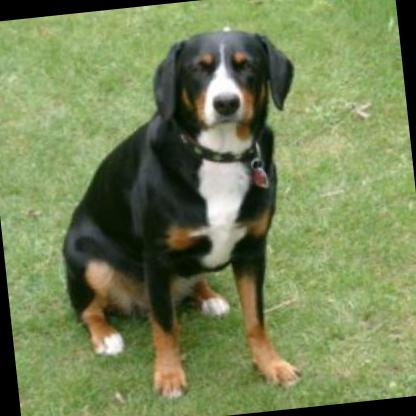EntleBucher: (36, 18, 328, 412)
